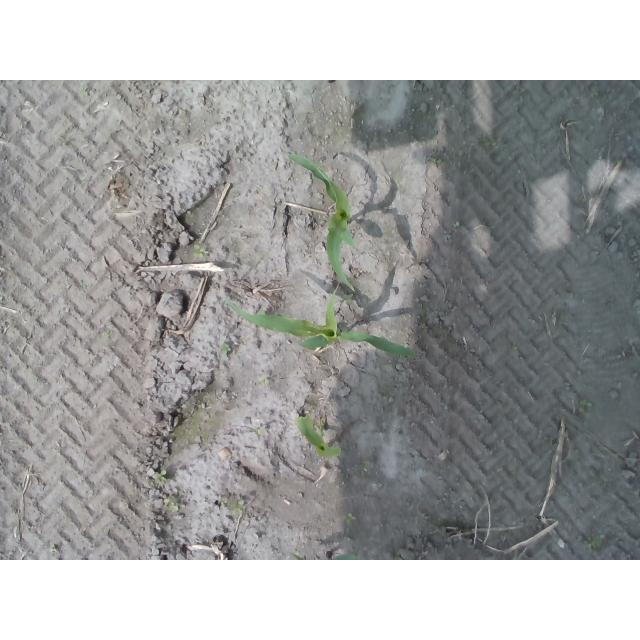Maize: (226, 294, 417, 359), (287, 153, 356, 291), (294, 415, 342, 457), (291, 548, 363, 560)
Weeds: (219, 496, 246, 512), (165, 496, 180, 512), (341, 512, 359, 525), (583, 536, 602, 548), (153, 468, 168, 482), (579, 398, 593, 413), (192, 245, 204, 260), (259, 375, 270, 386), (342, 294, 352, 305), (223, 344, 232, 355), (360, 462, 368, 474)
